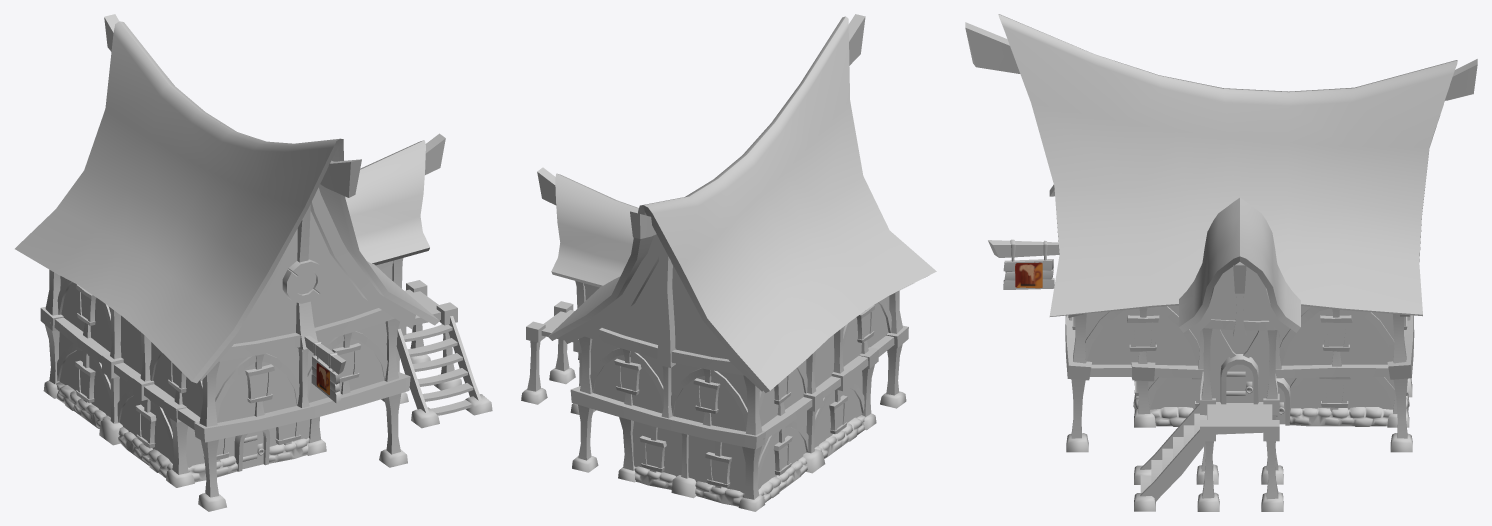
The model's file is tavern.FBX.
The picture shows the model from 3 angles, left to right: view 1: azimuth 30°, elevation 25°; view 2: azimuth 150°, elevation 25°; view 3: azimuth 270°, elevation 25°; orthographic projection. The views are drawn at different scales.
Parts seen in each view (by area): view 1: Tavern; view 2: Tavern; view 3: Tavern.
Part boxes in pixels (bbox=[...]): Tavern: bbox=[15, 14, 492, 511]; Tavern: bbox=[521, 14, 936, 511]; Tavern: bbox=[965, 14, 1477, 511].
Bounding box in the file's own units: 708 × 738 × 884.
